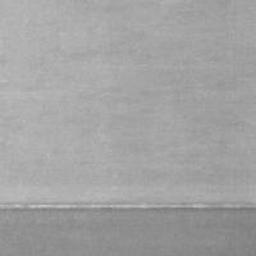Welding line: (0, 202, 256, 210)
